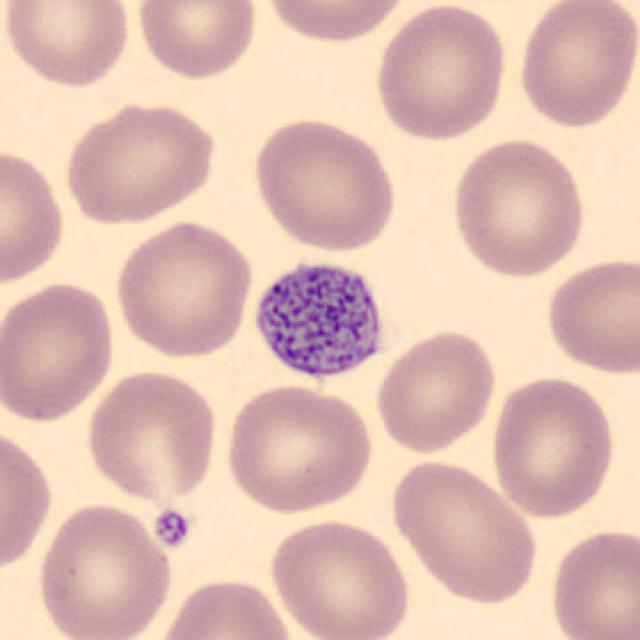Platelets: (244, 252, 391, 386), (149, 506, 194, 552)
RBC: (386, 455, 540, 606), (249, 113, 400, 254), (220, 381, 377, 516), (110, 217, 256, 360), (448, 134, 590, 280), (61, 97, 220, 226), (370, 0, 512, 143), (34, 499, 176, 640), (487, 372, 621, 520), (82, 367, 220, 506), (267, 515, 414, 640), (0, 276, 119, 426), (513, 0, 638, 130), (374, 326, 499, 455), (542, 252, 640, 377), (0, 0, 133, 90), (545, 523, 638, 640), (132, 0, 262, 81), (0, 142, 69, 289), (155, 573, 297, 640), (0, 423, 57, 578), (258, 0, 414, 46)
